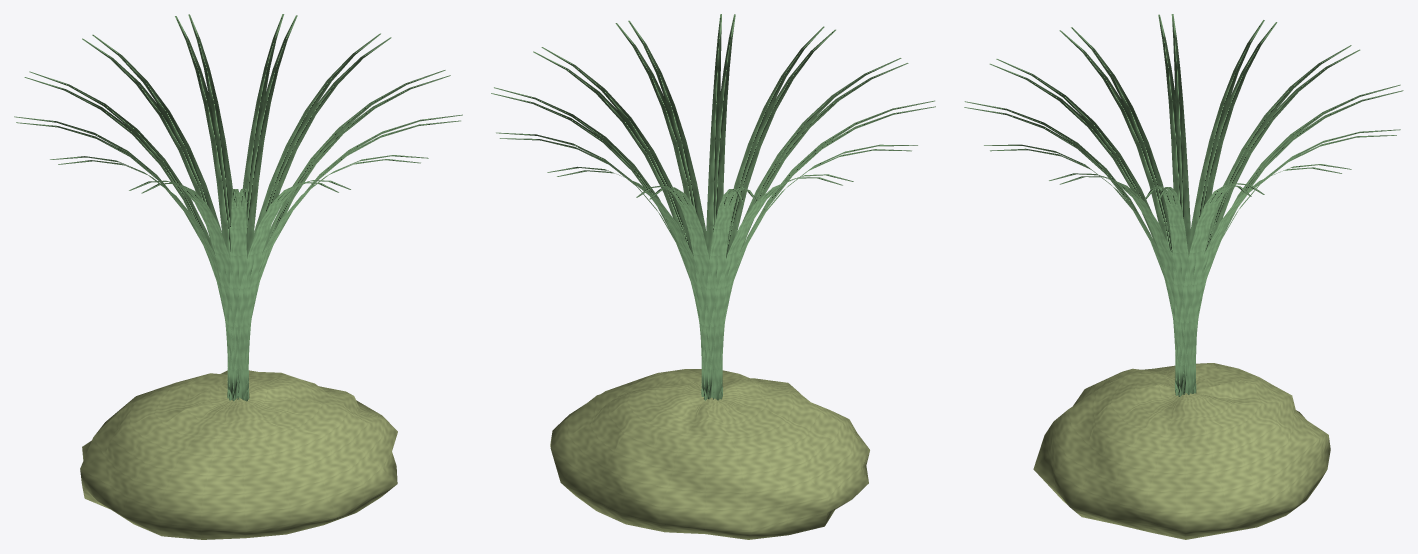
File: sedge_tussock_swamp_and_mangrove_22630.glb
The picture shows the model from 3 angles, left to right: view 1: azimuth 30°, elevation 25°; view 2: azimuth 150°, elevation 25°; view 3: azimuth 270°, elevation 25°; orthographic projection.
Parts seen in each view (by area): view 1: sedge-tussock; view 2: sedge-tussock; view 3: sedge-tussock.
Boxes of the visible parts, left/top/right/bottom form: sedge-tussock: left=14, top=14, right=462, bottom=539; sedge-tussock: left=491, top=14, right=935, bottom=539; sedge-tussock: left=964, top=14, right=1403, bottom=539.
Bounding box in the file's own units: 1.2 × 1.1 × 1.19.
2 materials, 2 textured.
